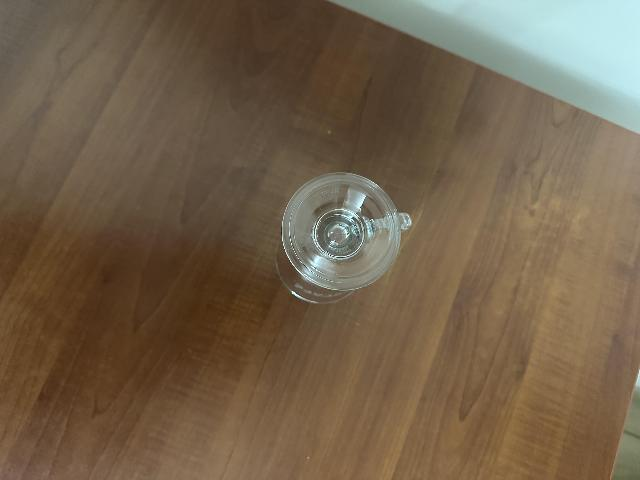Cam: (270, 170, 422, 310)
